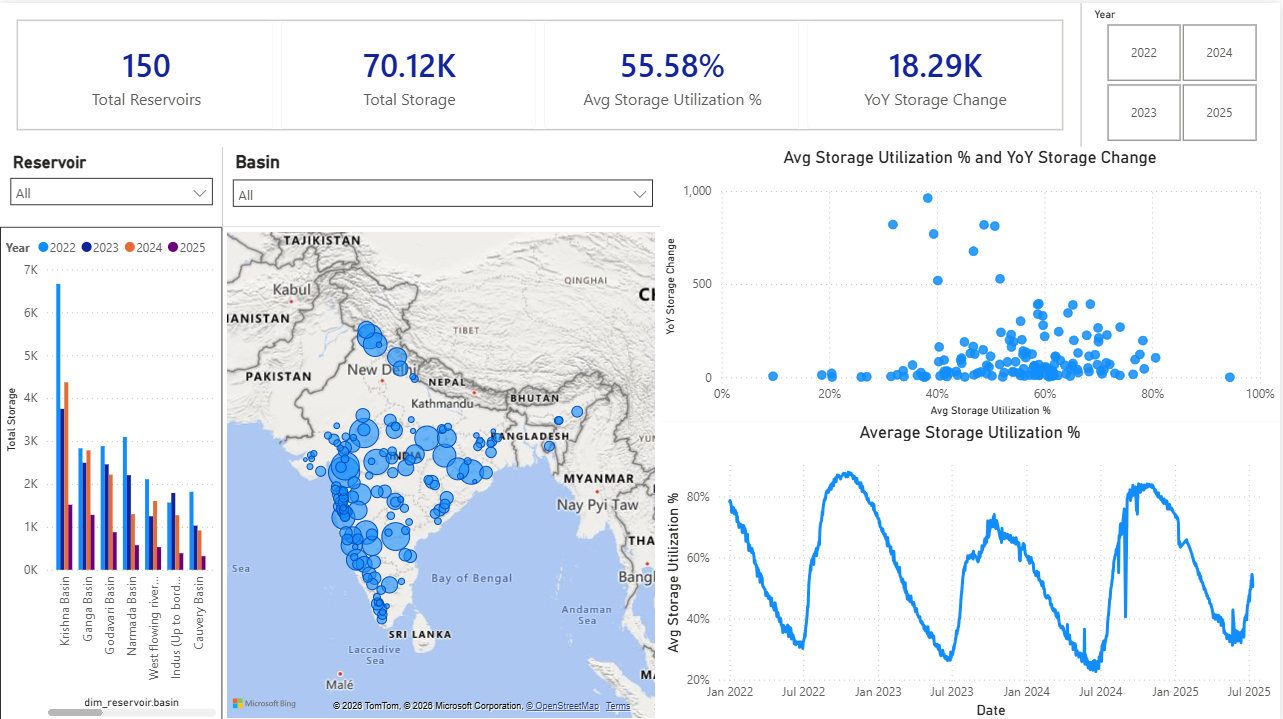

This screenshot's page, from the dashboard's own definition file:
{"tool":"powerbi","page":{"name":"Page 2","canvas":[1280,720],"ordinal":0},"visuals":[{"type":"cardVisual","fields":{"Data":["Fact_Table.Total Reservoirs","Fact_Table.Total Storage","Fact_Table.Avg Storage Utilization %","Fact_Table.YoY Storage Change"]},"box":[0,0,1081,144.3],"z":0},{"type":"clusteredColumnChart","fields":{"Category":["Dimension_Table.dim_reservoir.basin"],"Y":["Fact_Table.Total Storage"],"Series":["DateTable.Year"]},"box":[0,223.8,222.5,496.2],"z":1000},{"type":"slicer","fields":{"Values":["DateTable.Year"]},"box":[1081.7,0,199,144.3],"z":2000},{"type":"slicer","fields":{"Values":["Dimension_Table.dim_reservoir.basin"]},"box":[222,144,440,80],"z":3000},{"type":"map","fields":{"Y":["Dimension_Table.dim_reservoir.lat"],"X":["Dimension_Table.dim_reservoir.long"],"Size":["Sum(Reservoir_Latest_Status.storage)"]},"box":[222,224,438,496],"z":4000},{"type":"slicer","fields":{"Values":["Dimension_Table.dim_reservoir.reservoir_name"]},"box":[0,143.8,222.5,80],"z":5000},{"type":"lineChart","title":"Average Storage Utilization %","fields":{"Y":["Fact_Table.Avg Storage Utilization %"],"Category":["DateTable.Date"]},"box":[660,418.3,620,301.7],"z":6000},{"type":"scatterChart","title":"Avg Storage Utilization % and YoY Storage Change","fields":{"X":["Fact_Table.Avg Storage Utilization %"],"Y":["Fact_Table.YoY Storage Change"],"Category":["Dimension_Table.dim_reservoir.reservoir_name"]},"box":[660,143.3,620,275],"z":7000}]}

Visuals, with their boxes in screenshot pixels (x1, y1, x2, y2), scaled from the page's 1280x720 canvas onto the 1283x719 screenshot:
cardVisual - Fact_Table.Total Reservoirs x Fact_Table.Total Storage: <box>0,0,1084,144</box>
clusteredColumnChart - Dimension_Table.dim_reservoir.basin x Fact_Table.Total Storage: <box>0,223,223,718</box>
slicer - DateTable.Year: <box>1084,0,1282,144</box>
slicer - Dimension_Table.dim_reservoir.basin: <box>223,144,664,224</box>
map - Dimension_Table.dim_reservoir.lat x Dimension_Table.dim_reservoir.long: <box>223,224,662,718</box>
slicer - Dimension_Table.dim_reservoir.reservoir_name: <box>0,144,223,223</box>
"Average Storage Utilization %" lineChart: <box>662,418,1282,718</box>
"Avg Storage Utilization % and YoY Storage Change" scatterChart: <box>662,143,1282,418</box>
